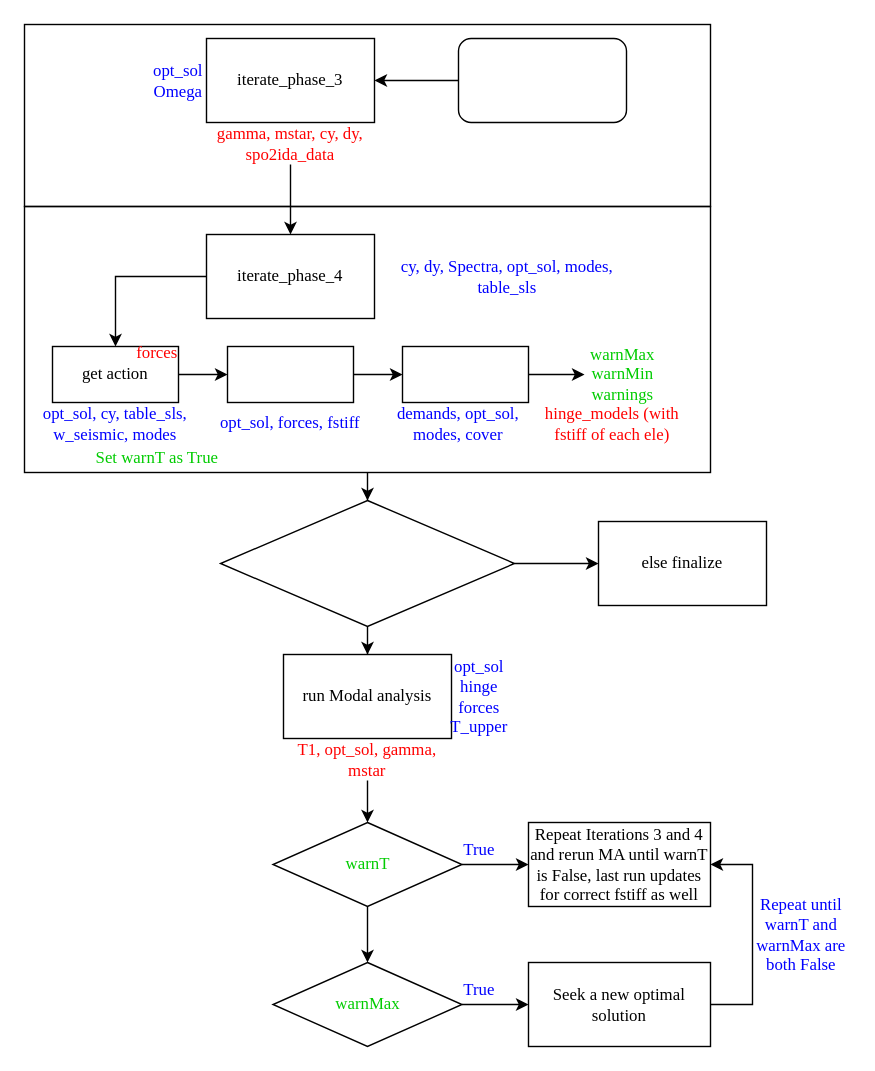
Image size: 875x1071. Some labels were removed from this diagram. The shapes that lost their labels are listed below. From the top down, each one's centre as x and y in pixels, then its label:
At [541,79]: "Use period of opt_sol Use assumed SPO shape".
At [290,373]: "run elastic analysis - get demands".
At [464,373]: "Detail the elements".
At [366,562]: "if warnT or warnMax or not self.spo_validate or self.omegaWarn".
